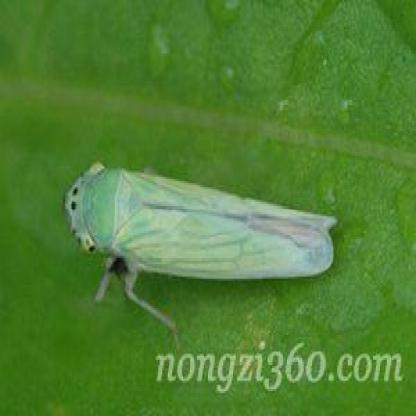Green-Leafhopper: (66, 160, 338, 324)
